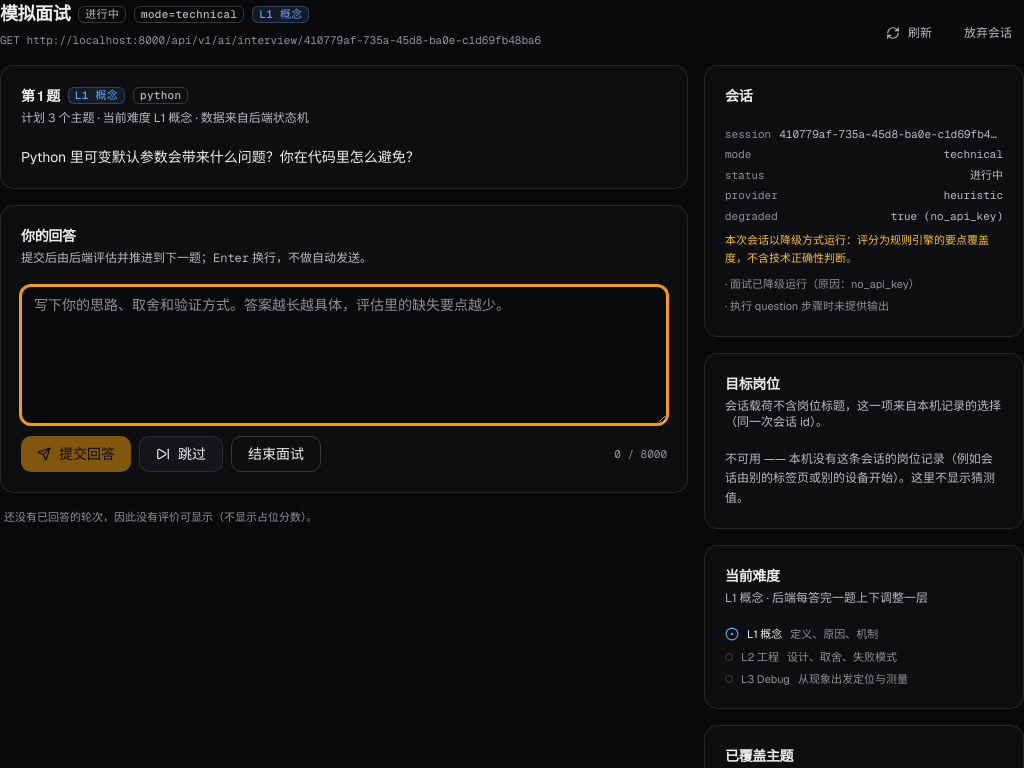
Test: the workspace › ends the interview through finish and shows the scorecard
The image size is (1024, 768).
Check: the text "Python 里可变默认参数会带来什么问题？你在代码里怎么避免？" is shown, box [21,148,420,166]
Click the button "结束面试" at {"x": 276, "y": 454}, box [231,436,321,472]
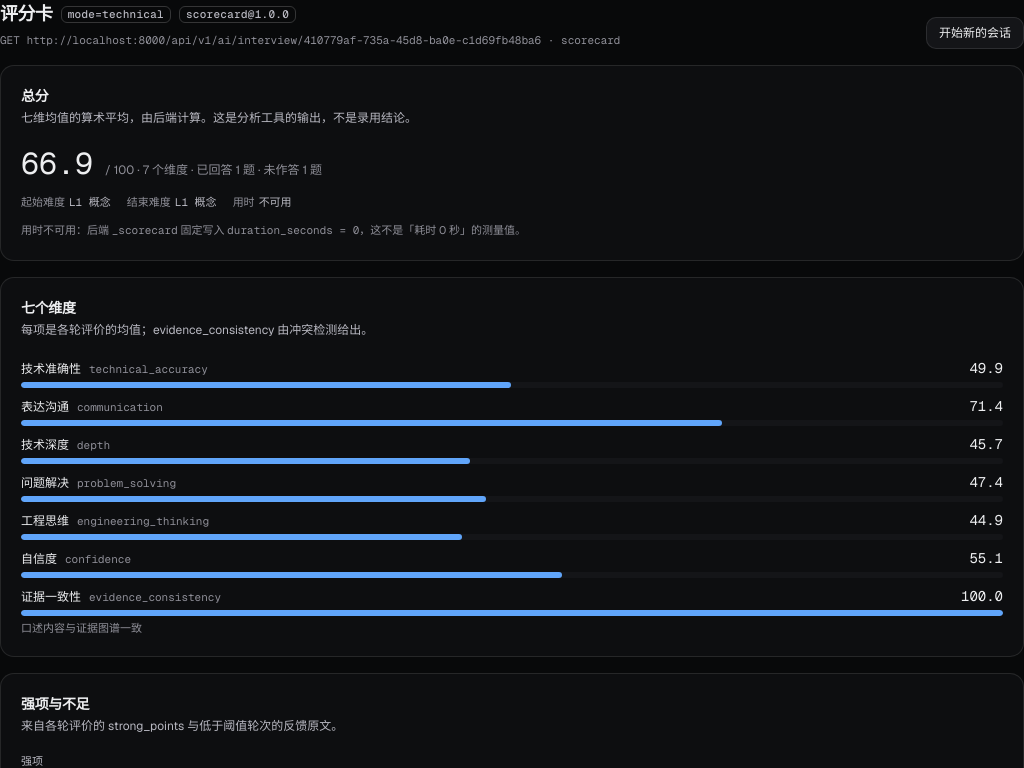
Check: the heading "评分卡 mode=technical scorecard@1.0.0" is shown, box [0,2,296,25]
